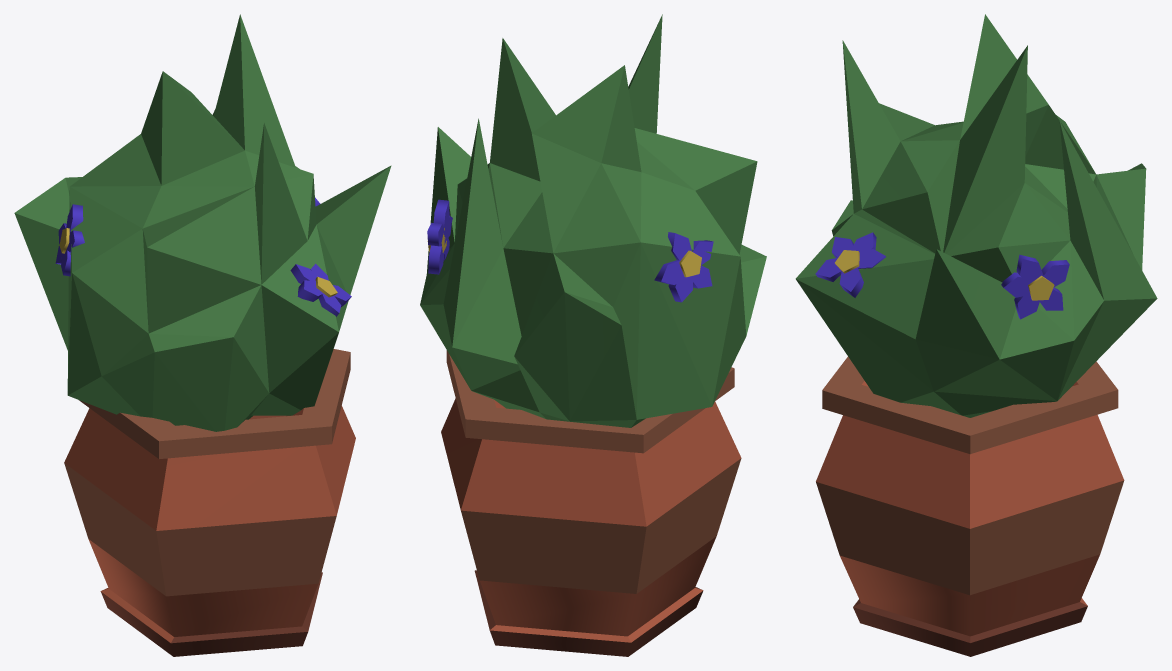
The model's file is flowerpot02.fbx.
3 views of the same model, side by side, from view 1: azimuth 30°, elevation 25°; view 2: azimuth 150°, elevation 25°; view 3: azimuth 270°, elevation 25° (orthographic). The views are drawn at different scales.
Parts seen in each view (by area): view 1: flowerpot02; view 2: flowerpot02; view 3: flowerpot02.
Boxes of the visible parts, box(x1,y1,x2,y2) form: flowerpot02: box(14, 14, 391, 656); flowerpot02: box(420, 14, 766, 656); flowerpot02: box(795, 14, 1157, 656).
Bounding box in the file's own units: 33.69 × 59.63 × 33.3.
